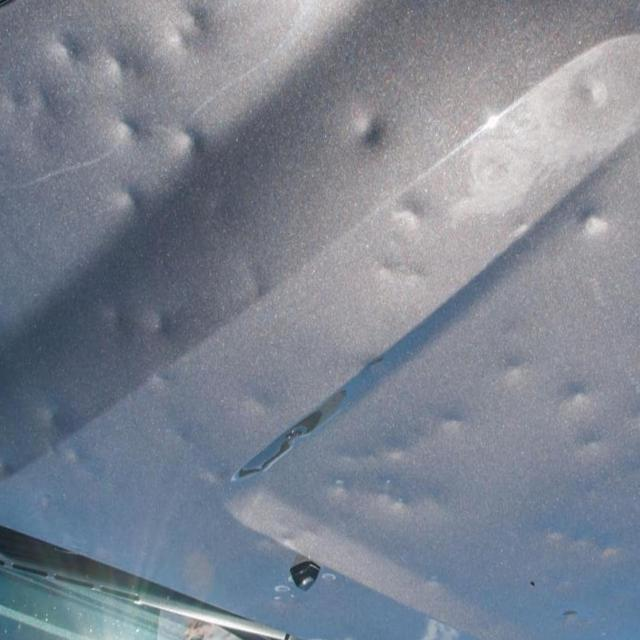dent: (36, 0, 217, 218), (313, 383, 491, 531), (338, 96, 405, 166)
